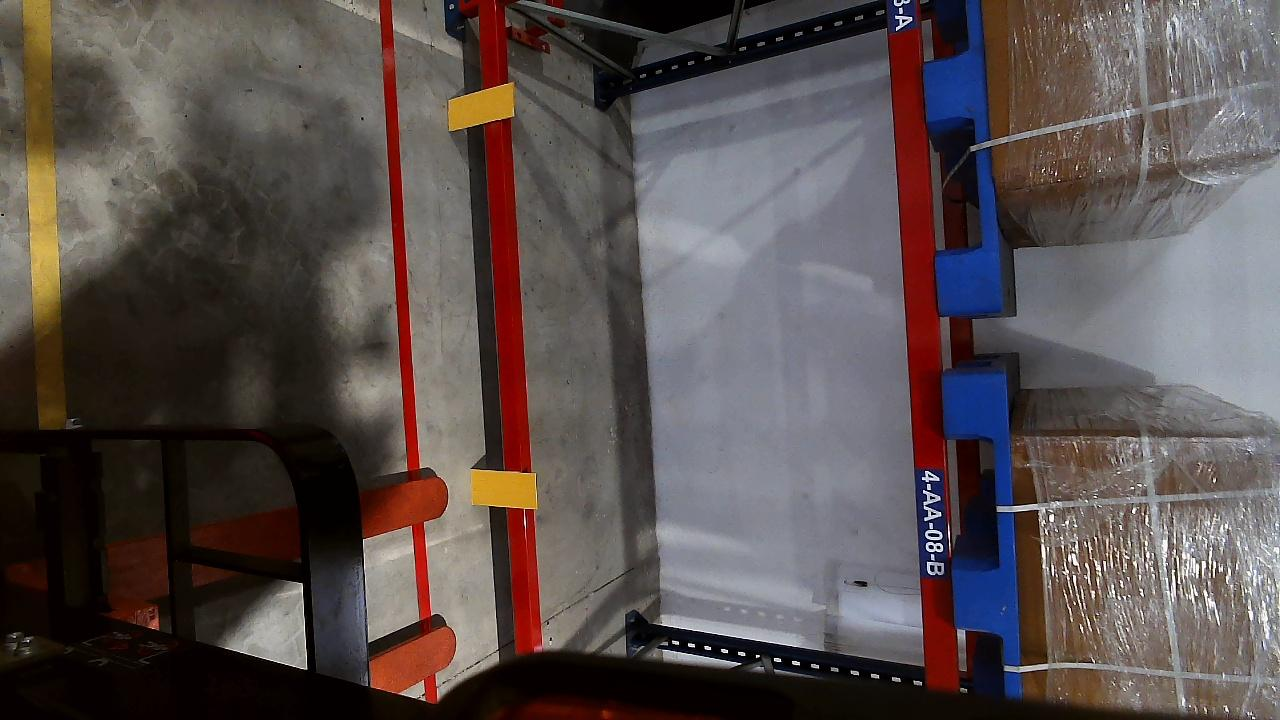h_rack: (882, 0, 952, 596), (475, 73, 532, 646)
orange_strip: (445, 83, 515, 129), (470, 469, 536, 509)
red_line: (380, 0, 421, 477)
small_pallet: (917, 0, 1007, 309), (942, 389, 1025, 690)
yellow_line: (19, 0, 66, 429)
